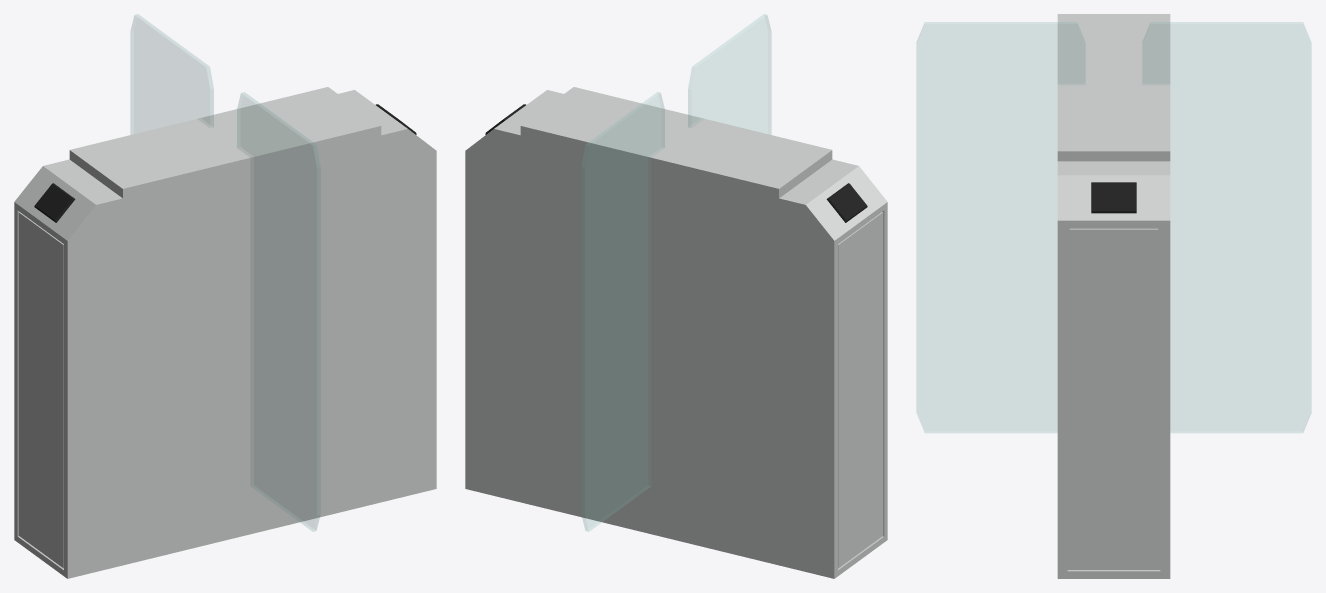
Rendered from trrnstile.fbx.
The picture shows the model from 3 angles, left to right: view 1: azimuth 30°, elevation 25°; view 2: azimuth 150°, elevation 25°; view 3: azimuth 270°, elevation 25°; orthographic projection. The views are drawn at different scales.
Parts seen in each view (by area): view 1: Cube, Cube.003, Cube.004, Cube.001; view 2: Cube, Cube.004, Cube.003, Cube.001; view 3: Cube, Cube.003, Cube.004, Cube.002.
Boxes of the visible parts, x1,y1,x2,y2 form: Cube: [14, 87, 436, 578]; Cube.003: [237, 92, 320, 531]; Cube.004: [130, 14, 213, 134]; Cube.001: [34, 183, 75, 222]; Cube: [465, 87, 887, 578]; Cube.004: [581, 92, 664, 531]; Cube.003: [688, 14, 771, 134]; Cube.001: [826, 183, 867, 222]; Cube: [1057, 14, 1170, 578]; Cube.003: [916, 22, 1085, 432]; Cube.004: [1142, 22, 1311, 432]; Cube.002: [1091, 182, 1136, 213].
Bounding box in the file's own units: 400 × 450 × 350.
